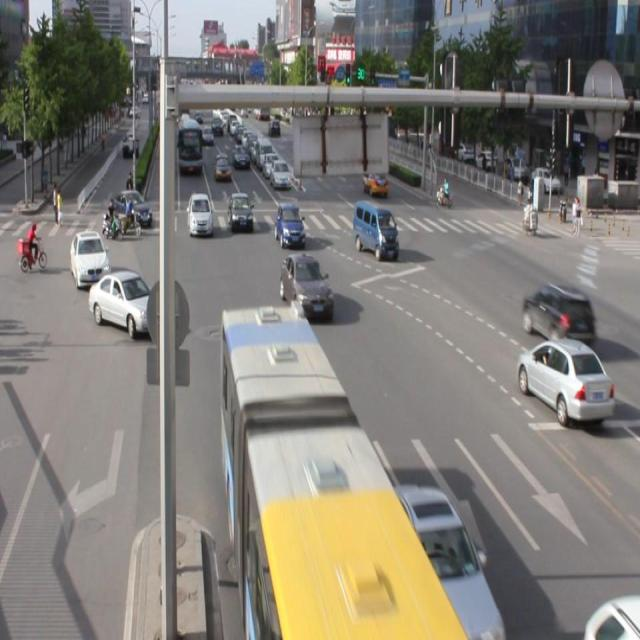car: (389, 480, 504, 640), (515, 335, 612, 425), (521, 280, 594, 349), (89, 268, 159, 334), (279, 254, 333, 320), (275, 203, 306, 249), (187, 192, 213, 233), (228, 192, 254, 233)
truck: (353, 200, 397, 259)
van: (222, 306, 465, 640)
